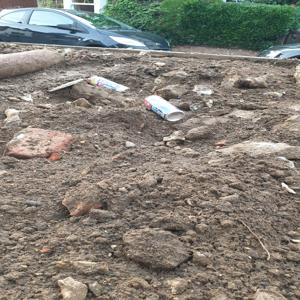metal: (144, 91, 189, 122), (81, 70, 130, 96)
